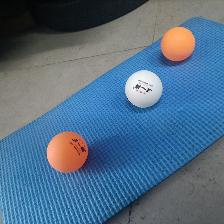WhiteBall: (123, 69, 162, 107)
YellowBall: (47, 130, 87, 172), (161, 26, 194, 61)
